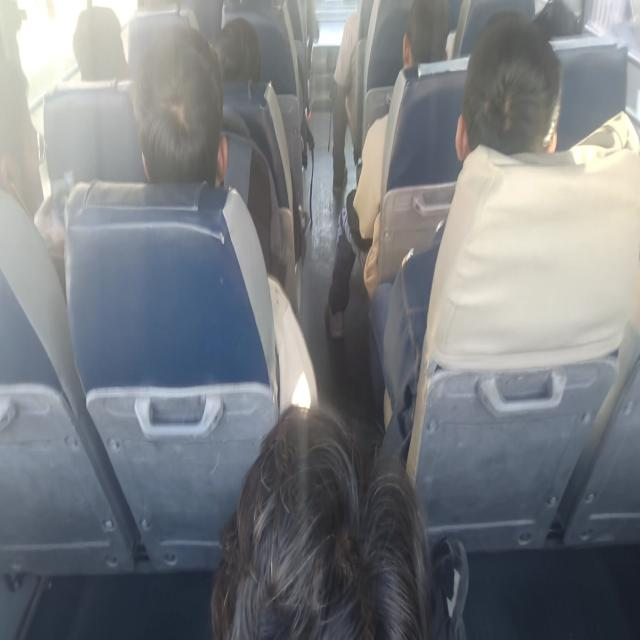person: (209, 410, 461, 640), (459, 33, 555, 193), (144, 24, 228, 186), (65, 8, 141, 98), (0, 61, 49, 193), (206, 12, 270, 89), (403, 0, 454, 78), (536, 0, 576, 52)
